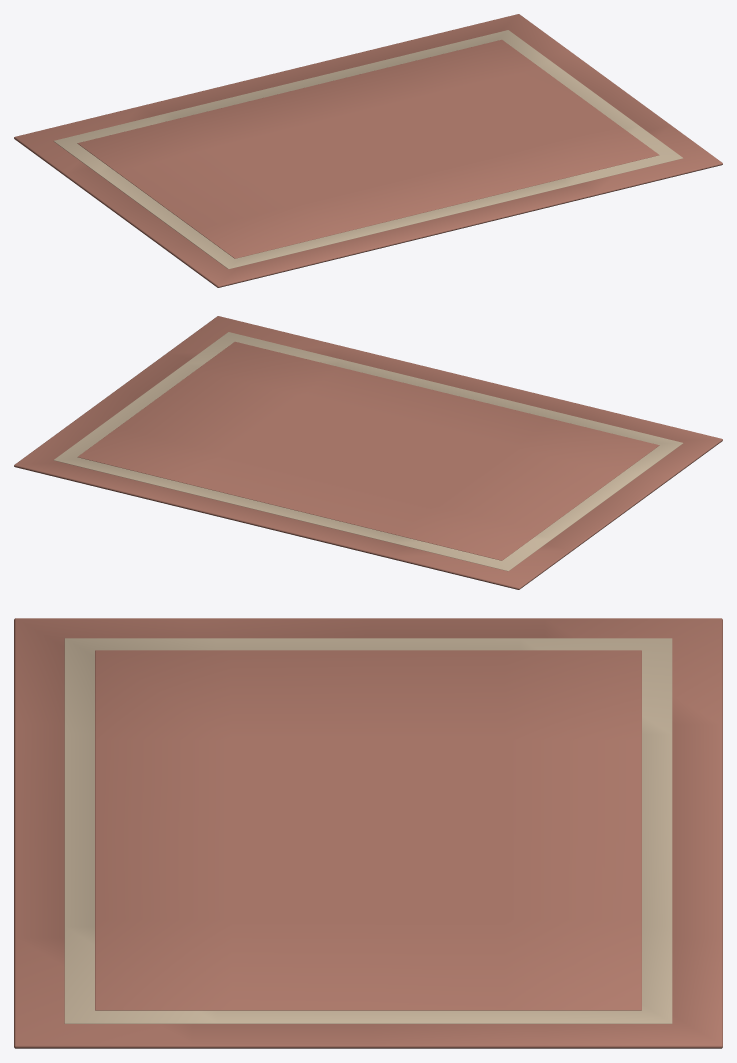
The model's file is rug.glb.
3 views of the same model, one above another, from view 1: azimuth 30°, elevation 25°; view 2: azimuth 150°, elevation 25°; view 3: azimuth 270°, elevation 25° (orthographic). The views are drawn at different scales.
Parts seen in each view (by area): view 1: p_rug; view 2: p_rug; view 3: p_rug.
Boxes of the visible parts, x1=… form: p_rug: x1=14, y1=14, x2=722, y2=287; p_rug: x1=14, y1=316, x2=722, y2=589; p_rug: x1=14, y1=618, x2=722, y2=1048.
Size of the model in its own units: 2 by 0.012 by 1.4.
